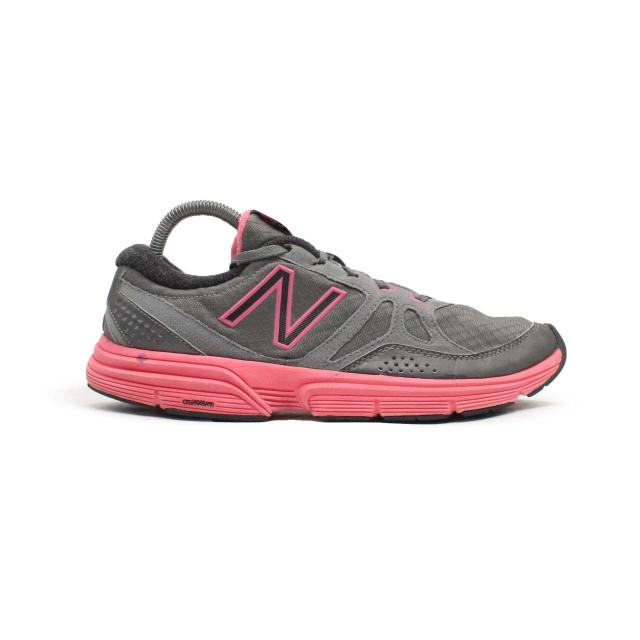heel: (99, 246, 147, 351)
midsole: (88, 321, 566, 422)
uppersole: (145, 211, 548, 378)
